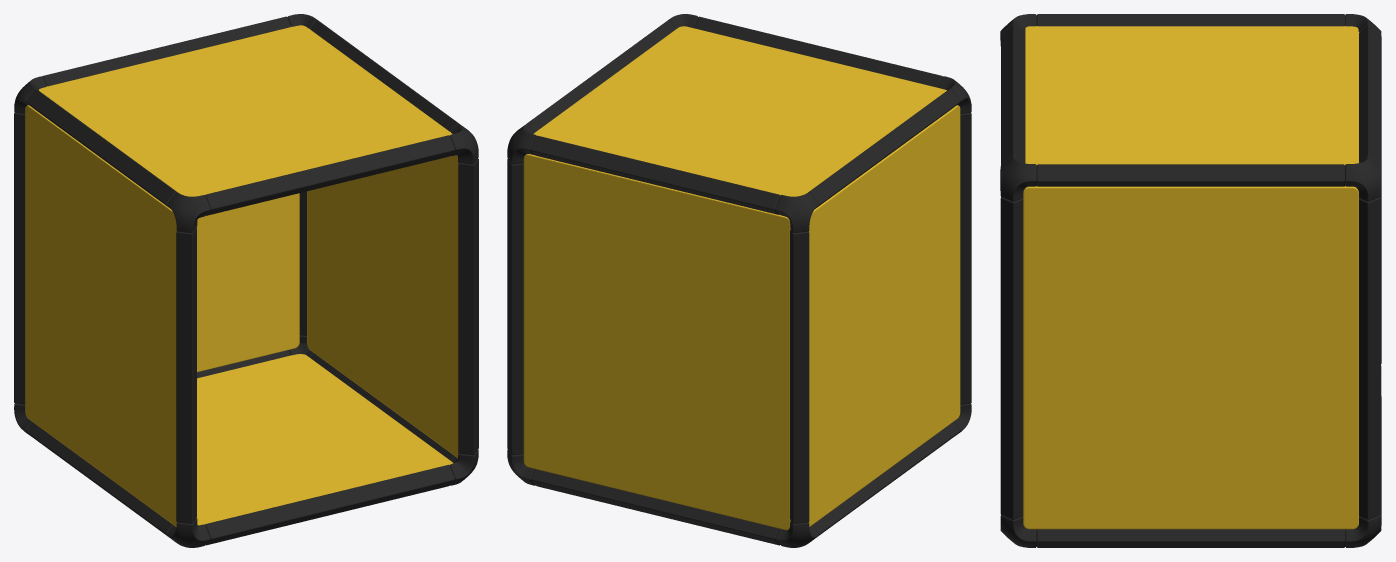
The picture shows the model from 3 angles, left to right: view 1: azimuth 30°, elevation 25°; view 2: azimuth 150°, elevation 25°; view 3: azimuth 270°, elevation 25°; orthographic projection. The views are drawn at different scales.
Visible parts, largest first — view 1: 329x329x374; view 2: 329x329x374; view 3: 329x329x374.
Part boxes in pixels (bbox=[...]): 329x329x374: bbox=[14, 14, 478, 547]; 329x329x374: bbox=[507, 14, 971, 547]; 329x329x374: bbox=[1000, 14, 1381, 547].
Bounding box in the file's own units: 0.4067 × 0.4516 × 0.4063.
